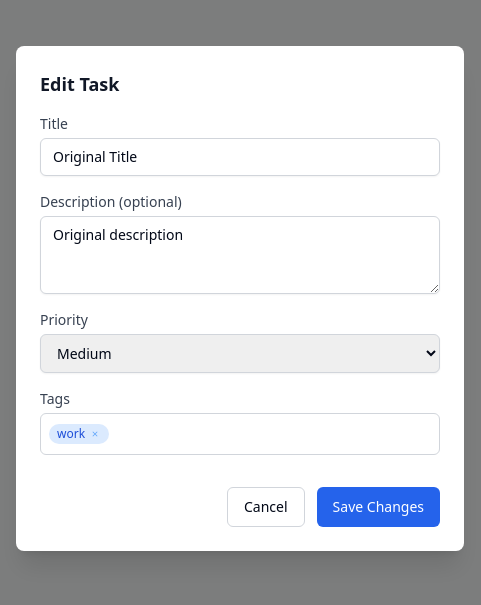
Test: EditTaskModal Component › shows error on save failure
This screenshot has width=481, height=605.
Click the button "Save Changes".
click(378, 506)  # box [317,486,440,526]
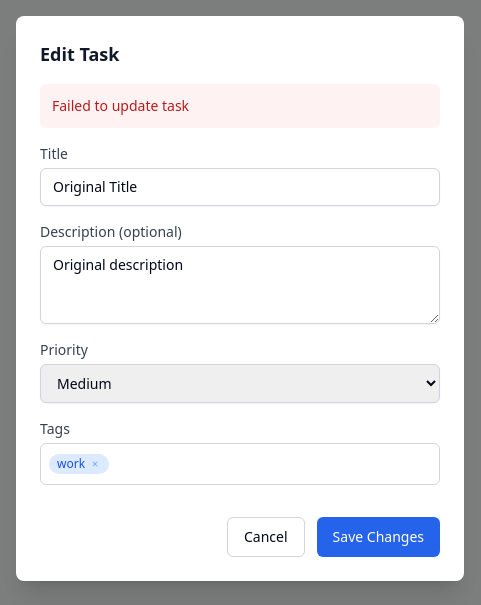
Check: the text "Failed to update task" is shown, box [40,84,440,128]
